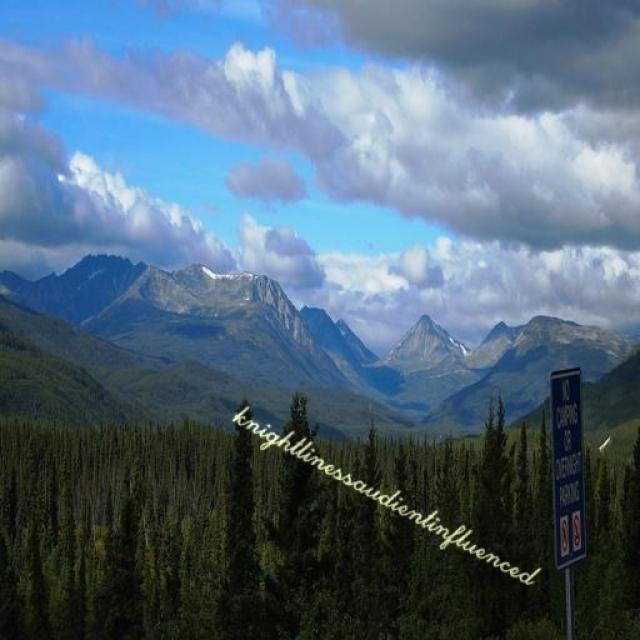watermark: (225, 399, 551, 591)
